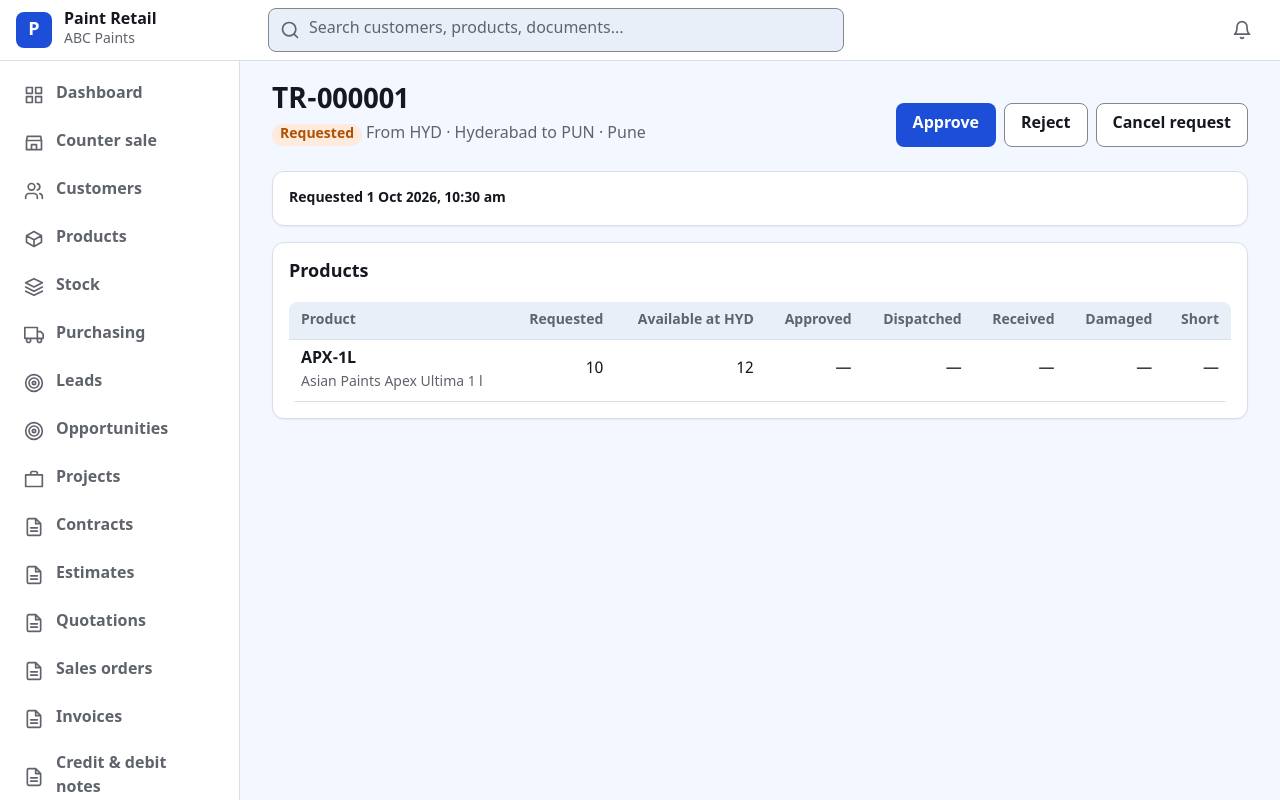
Test case: TransferDetailPage › rejects a request with a reason
The width and height of the screenshot is (1280, 800).
Click the button with aria-label "Reject TR-000001": coordinates (1046, 125) left=1004, top=103, right=1088, bottom=147
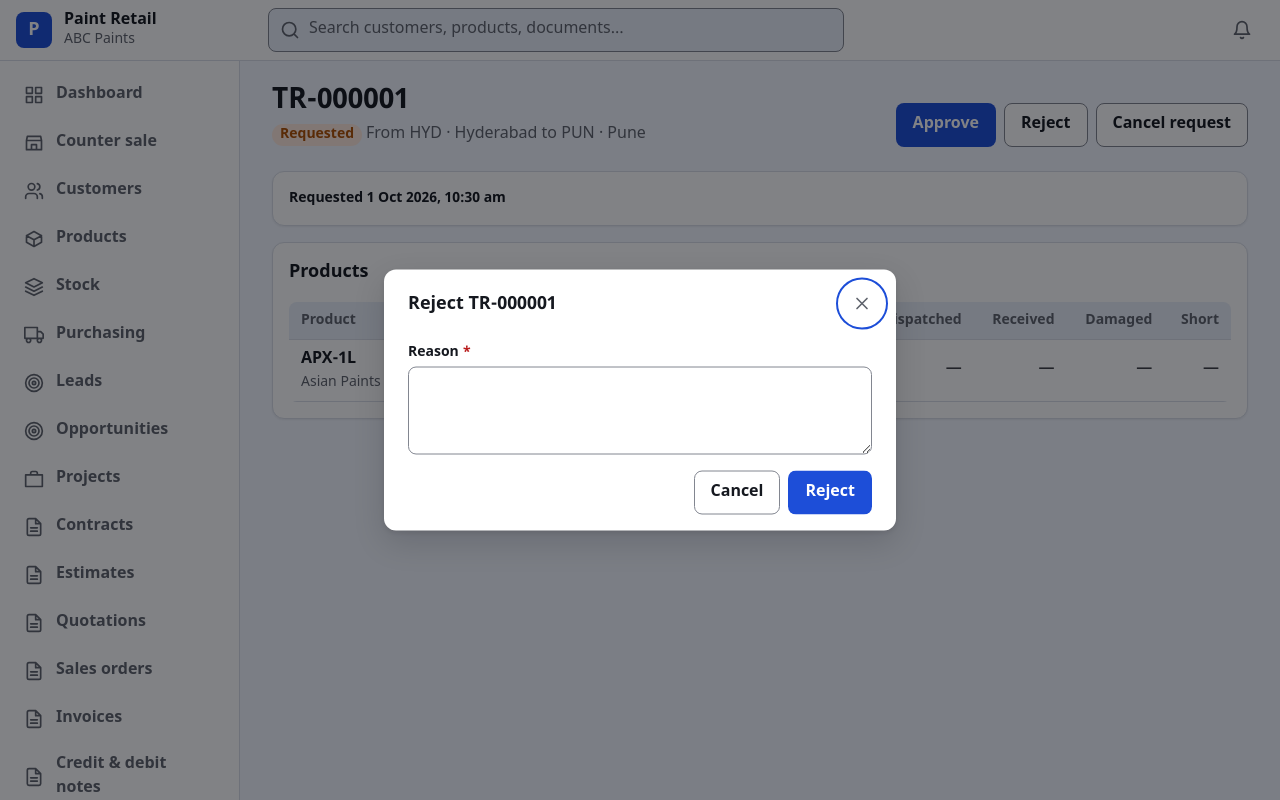
In the text box labelled "Reason *": coordinates (640, 410) left=408, top=366, right=872, bottom=454, type "Not enough stock"
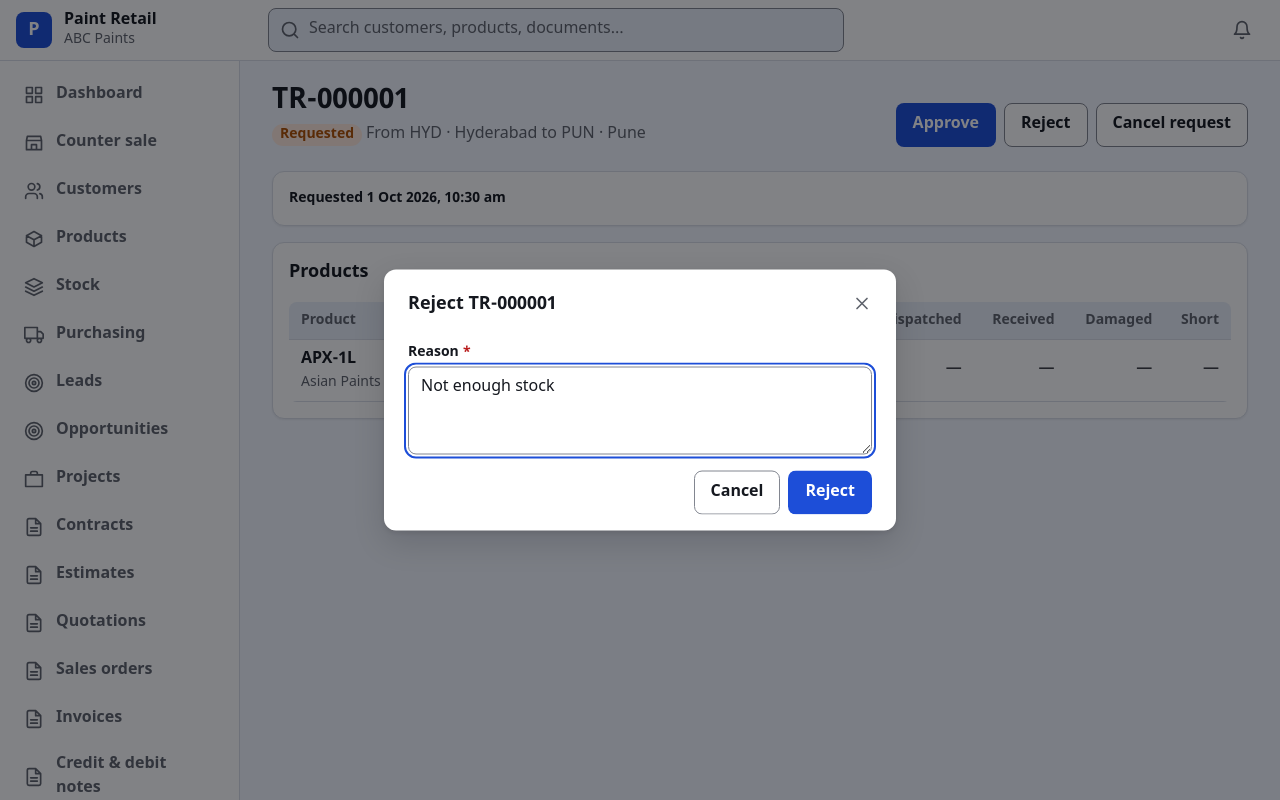
Click the button "Reject": coordinates (830, 492) left=788, top=470, right=872, bottom=514
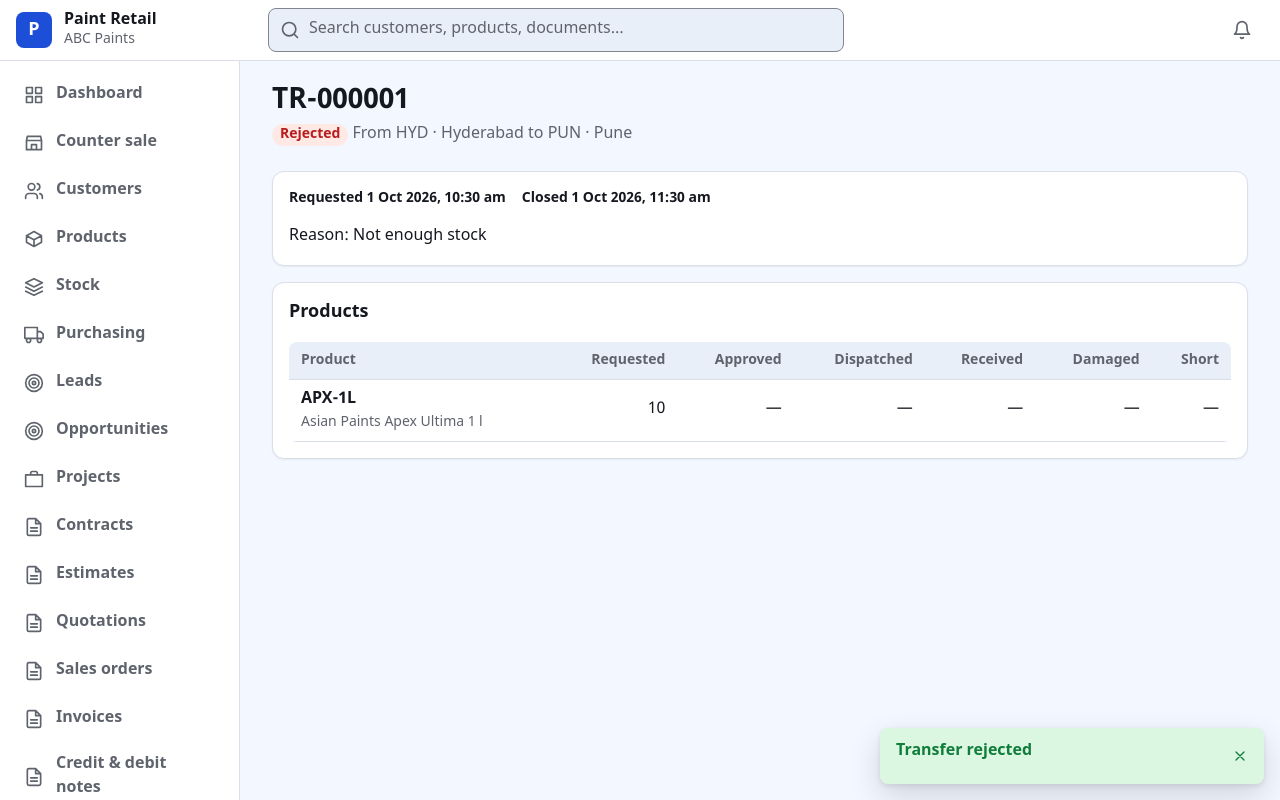
expect the text "Reason: Not enough stock" is shown: met, box left=289, top=226, right=486, bottom=247
expect the text "Transfer rejected" is shown: met, box left=896, top=741, right=1032, bottom=762
